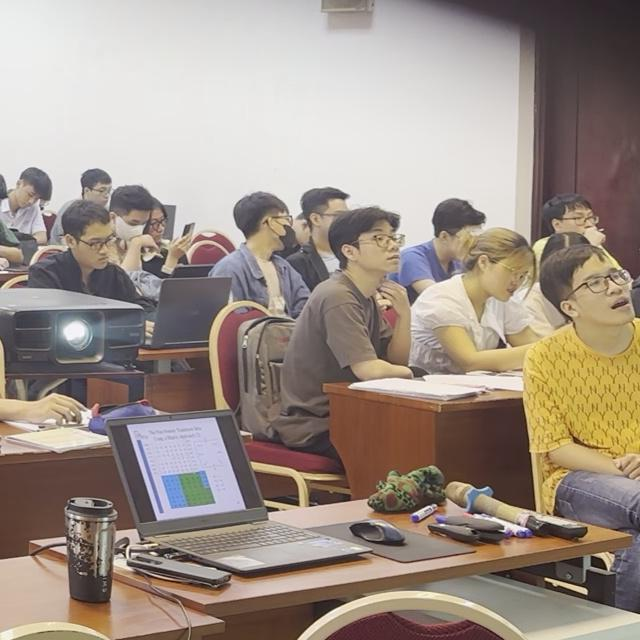Looking away: (465, 227, 541, 300), (436, 190, 496, 261), (243, 190, 301, 263), (67, 166, 127, 233), (11, 146, 47, 239), (64, 210, 113, 276), (308, 180, 356, 237), (113, 181, 146, 240)
Looking forward: (547, 238, 628, 354), (345, 200, 424, 285), (551, 177, 629, 251)
Phone use: (127, 186, 212, 273)
